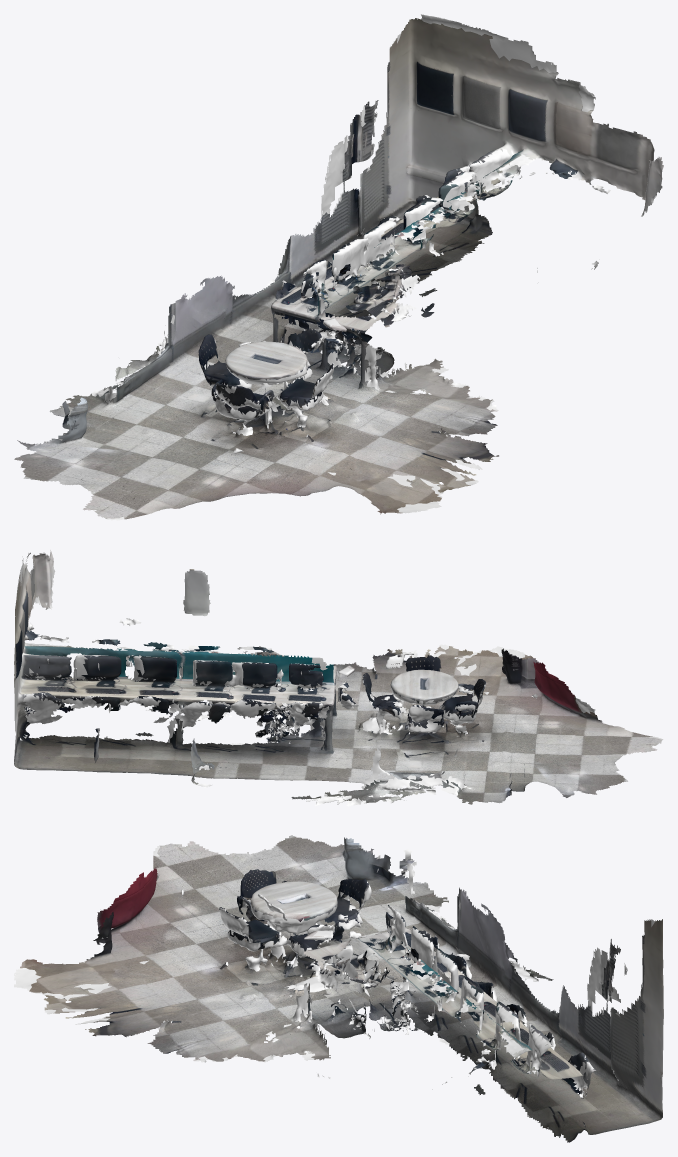
3 views of the same model, one above another, from view 1: azimuth 30°, elevation 25°; view 2: azimuth 150°, elevation 25°; view 3: azimuth 270°, elevation 25° (orthographic). The views are drawn at different scales.
Visible parts, largest first — view 1: texture_1, texture_0, texture_2, texture_3, object 1, texture_4; view 2: texture_0, texture_3, texture_1, object 1, texture_2, texture_4; view 3: texture_0, texture_2, texture_1, texture_3, object 1, texture_4.
Boxes of the visible parts, bbox=[...] form: texture_1: bbox=[206, 18, 651, 382]; texture_0: bbox=[14, 282, 451, 519]; texture_2: bbox=[196, 195, 498, 508]; texture_3: bbox=[124, 141, 663, 514]; object 1: bbox=[45, 14, 662, 520]; texture_4: bbox=[236, 341, 441, 504]; texture_0: bbox=[225, 658, 662, 804]; texture_3: bbox=[31, 550, 572, 801]; texture_1: bbox=[14, 555, 443, 771]; object 1: bbox=[15, 552, 663, 806]; texture_2: bbox=[125, 643, 564, 780]; texture_4: bbox=[374, 648, 563, 713]; texture_0: bbox=[43, 835, 517, 1056]; texture_2: bbox=[35, 878, 515, 1061]; texture_1: bbox=[292, 893, 663, 1142]; texture_3: bbox=[20, 850, 617, 1106]; object 1: bbox=[14, 846, 654, 1125]; texture_4: bbox=[29, 872, 333, 994].
Size of the model in its own units: 8.65 by 2.65 by 6.81.
6 materials, 5 textured.
